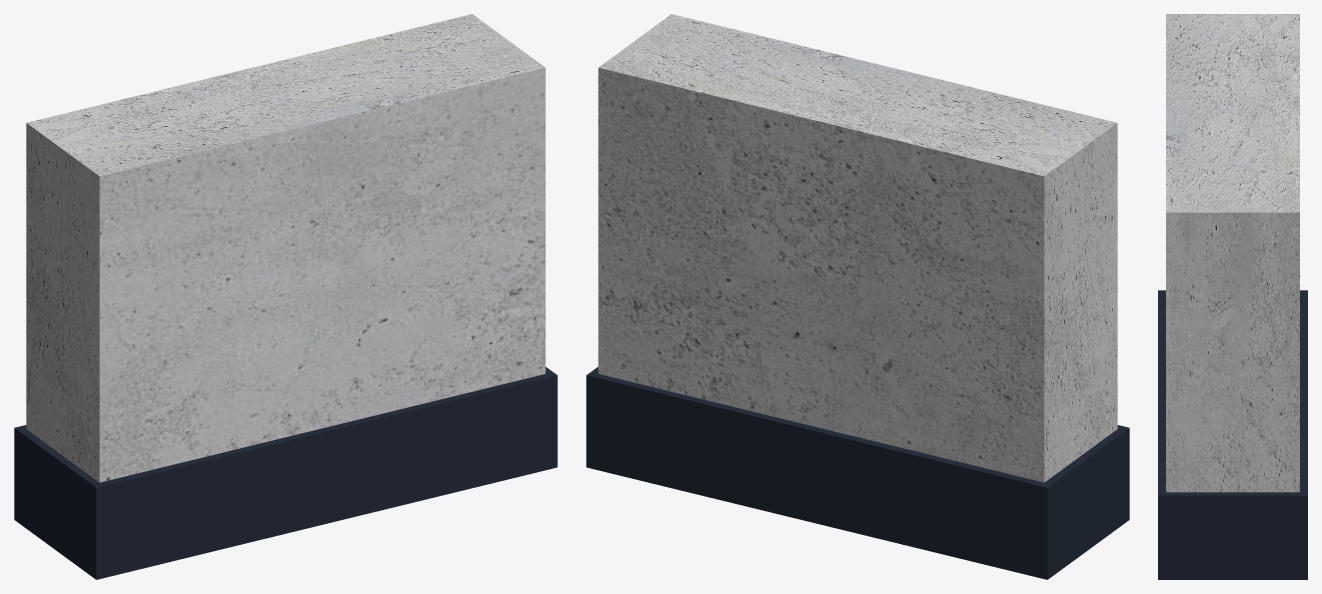
The model's file is WallModel.fbx.
3 renders of one model, left to right at view 1: azimuth 30°, elevation 25°; view 2: azimuth 150°, elevation 25°; view 3: azimuth 270°, elevation 25°, orthographic. The views are drawn at different scales.
Visible parts, largest first — view 1: WallGoodUVs; view 2: WallGoodUVs; view 3: WallGoodUVs.
Boxes of the visible parts, box(x1,y1,x2,y2) form: WallGoodUVs: box(14, 14, 557, 579); WallGoodUVs: box(586, 14, 1129, 579); WallGoodUVs: box(1158, 14, 1307, 579).
Size of the model in its own units: 4.74 by 3.92 by 1.46.
